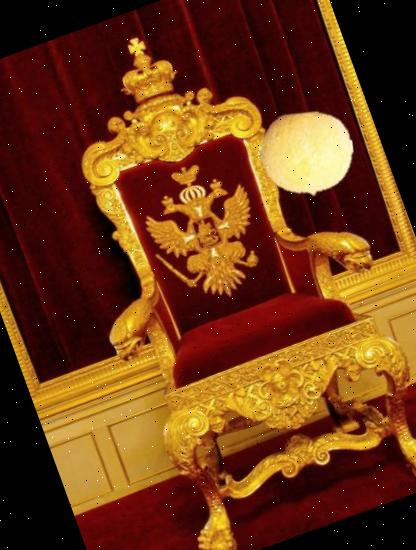Cantaloupe: (248, 95, 366, 214)
